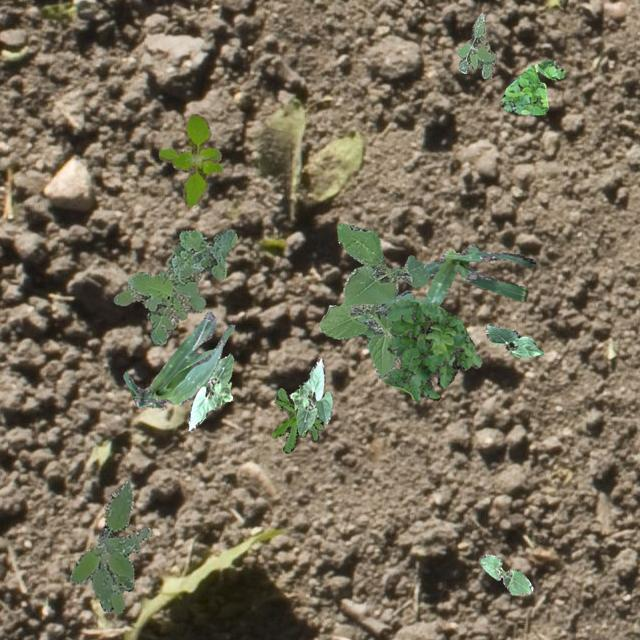crop: (122, 311, 234, 408), (422, 243, 534, 304), (186, 354, 232, 431), (290, 356, 332, 434), (478, 552, 532, 594), (484, 322, 542, 357)
weed: (317, 222, 428, 378), (114, 228, 235, 344), (68, 480, 152, 612), (384, 298, 481, 402), (158, 112, 222, 206), (499, 58, 564, 114), (270, 386, 322, 452), (456, 12, 496, 78)
